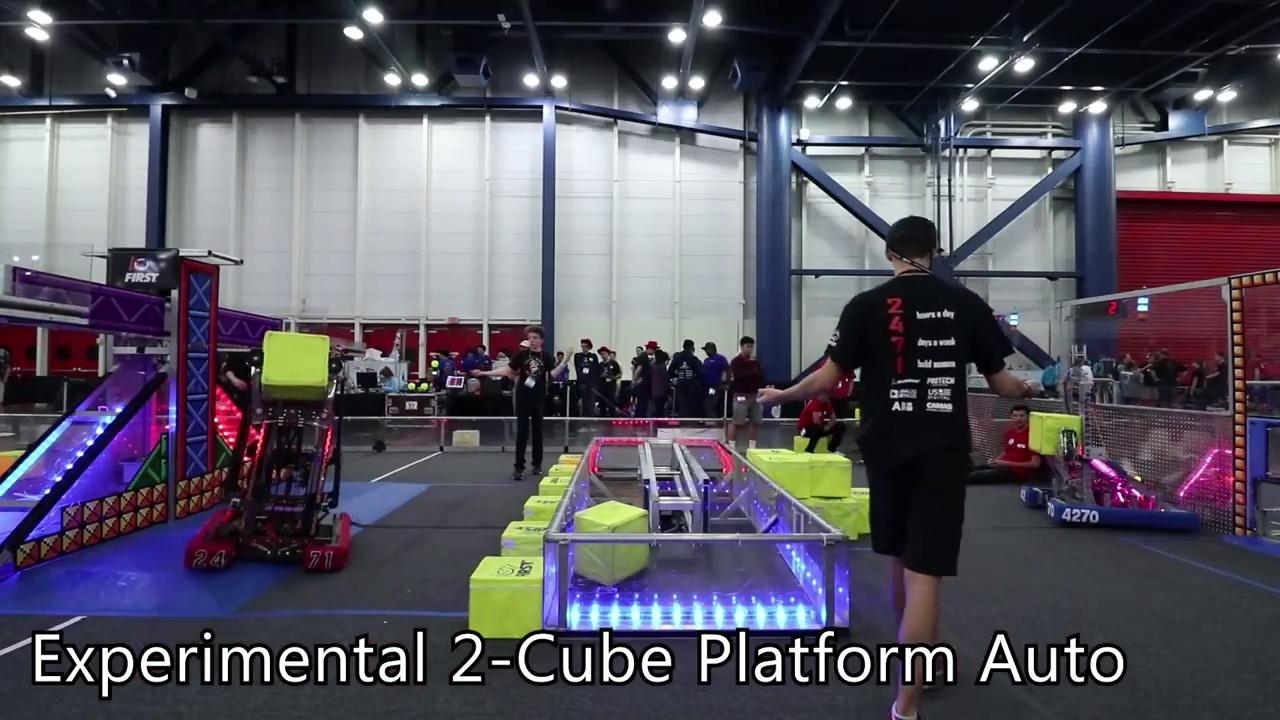robot: (180, 330, 355, 576), (1014, 425, 1207, 535)
